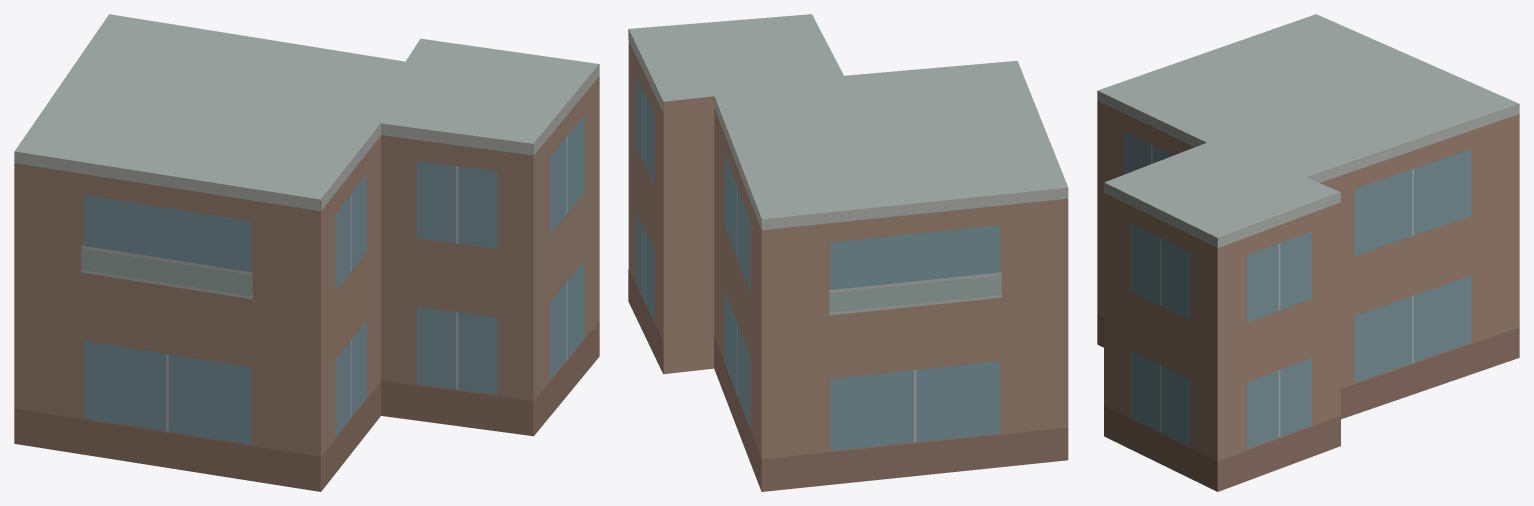
Rendered from survey-upis-32990922.glb.
3 views of the same model, side by side, from view 1: azimuth 30°, elevation 25°; view 2: azimuth 150°, elevation 25°; view 3: azimuth 270°, elevation 25° (orthographic). The views are drawn at different scales.
Visible parts, largest first — view 1: survey-upis-32990922.tmp; view 2: survey-upis-32990922.tmp; view 3: survey-upis-32990922.tmp.
Boxes of the visible parts, x1,y1,x2,y2 form: survey-upis-32990922.tmp: (14,14,599,491); survey-upis-32990922.tmp: (628,14,1068,491); survey-upis-32990922.tmp: (1097,14,1519,491).
Size of the model in its own units: 11.55 by 6.1 by 9.21.
